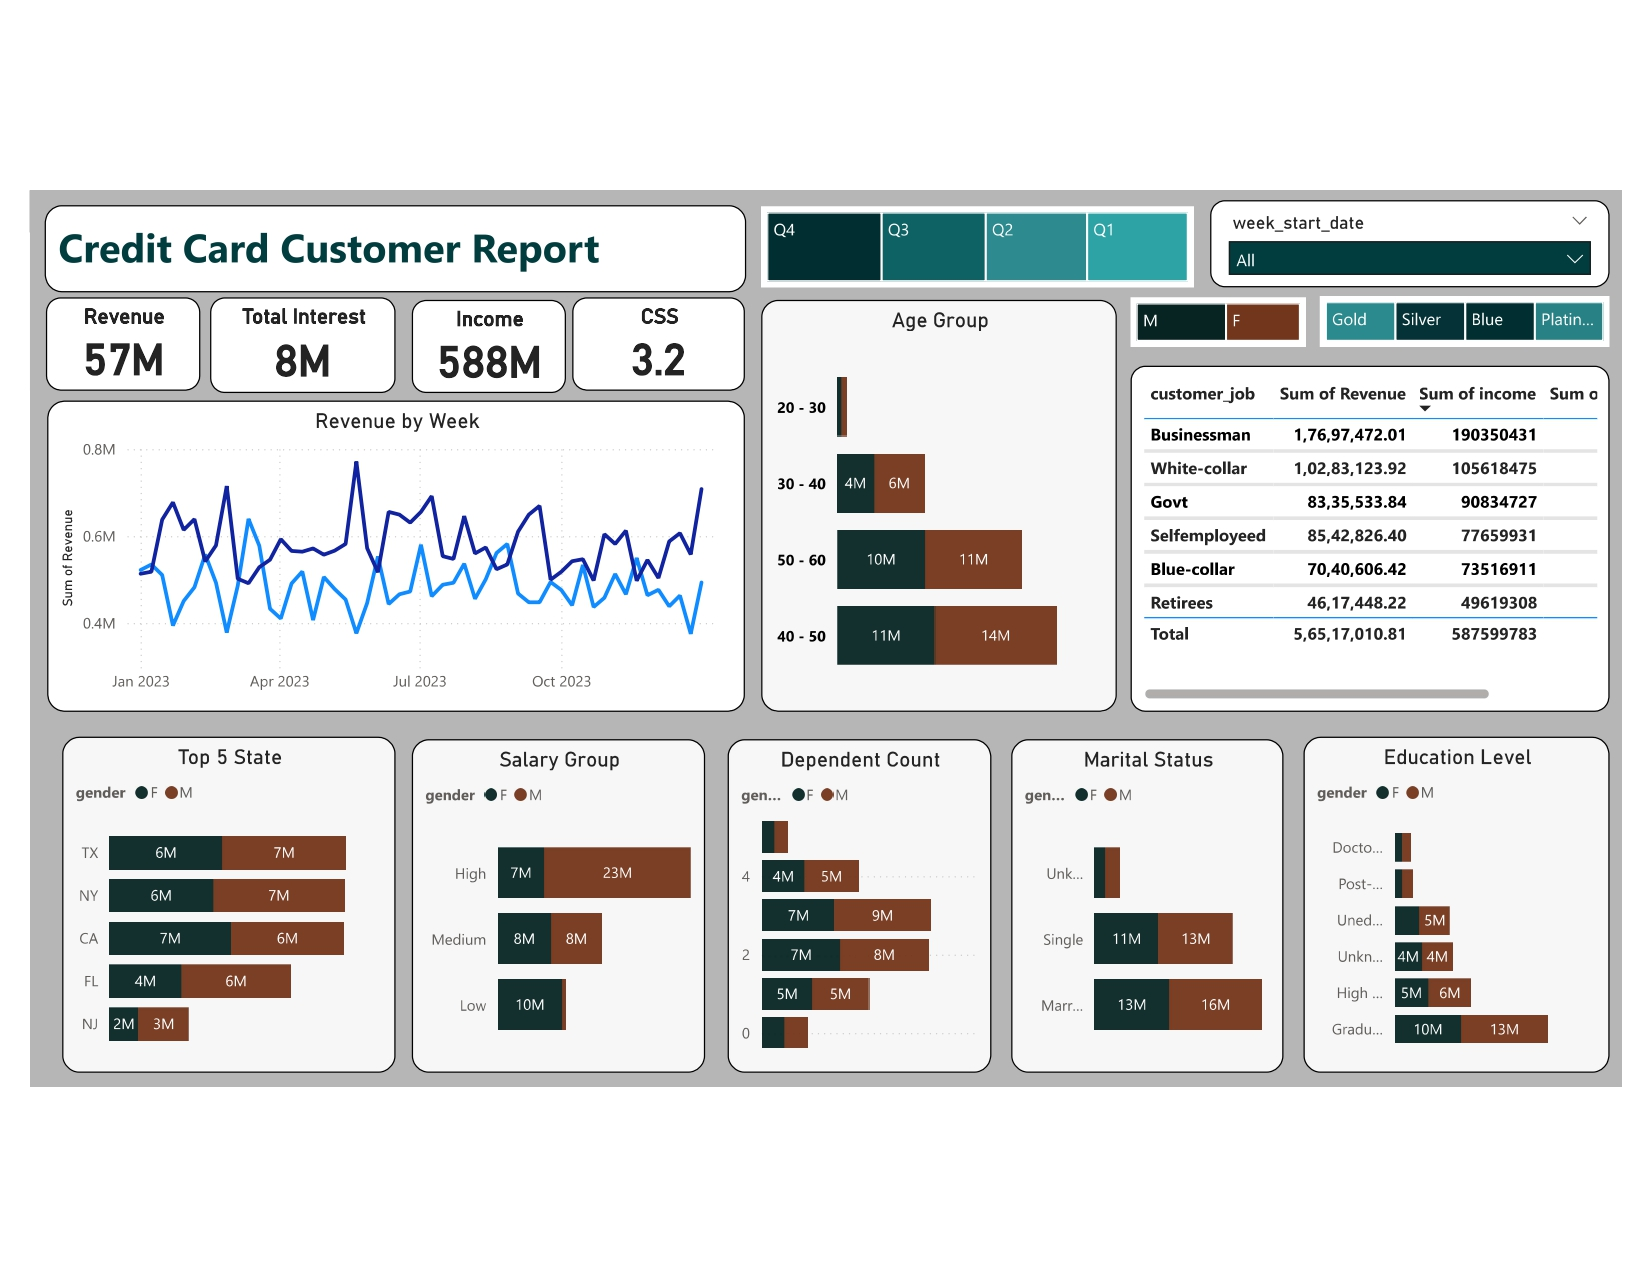

This screenshot's page, from the dashboard's own definition file:
{"tool":"powerbi","page":{"name":"Page 3","canvas":[1280,720],"ordinal":1},"visuals":[{"type":"textbox","box":[12,12,564,70],"z":0},{"type":"tableEx","fields":{"Values":["public cust_detail.customer_job","Sum(public cc_detail.Revenue)","Sum(public cust_detail.income)","Sum(public cc_detail.interest_earned)"]},"box":[885.1,140.6,385,278],"z":1000},{"type":"slicer","fields":{"Values":["public cc_detail.week_start_date"]},"box":[949,8,321.1,70.3],"z":2000},{"type":"treemap","fields":{"Values":["Avg(public cc_detail.client_num)"],"Group":["public cc_detail.card_category","public cust_detail.gender"]},"box":[1036.9,84.7,233.3,41.5],"z":3000},{"type":"card","title":"Revenue","fields":{"Values":["Sum(public cc_detail.Revenue)"]},"box":[12.8,86.3,124.6,75.1],"z":4000},{"type":"card","title":"Income","fields":{"Values":["Sum(public cust_detail.income)"]},"box":[306.8,87.9,124.6,75.1],"z":5000},{"type":"card","title":"Total Interest","fields":{"Values":["Sum(public cc_detail.interest_earned)"]},"box":[145.4,86.3,148.6,76.7],"z":6000},{"type":"card","title":"CSS","fields":{"Values":["Avg(public cust_detail.cust_satisfaction_score)"]},"box":[436.2,86.3,139,75.1],"z":7000},{"type":"lineChart","title":"Revenue by Week","fields":{"Y":["Sum(public cc_detail.Revenue)"],"Series":["public cust_detail.gender"],"Category":["public cc_detail.week_start_date.Variation.Date Hierarchy.Year","public cc_detail.week_start_date.Variation.Date Hierarchy.Quarter","public cc_detail.week_start_date.Variation.Date Hierarchy.Month","public cc_detail.week_start_date.Variation.Date Hierarchy.Day"]},"box":[14.4,169.4,560.8,249.2],"z":8000},{"type":"treemap","fields":{"Values":["Sum(public cc_detail.Revenue)"],"Group":["public cust_detail.gender"]},"box":[885.1,86.3,140.6,39.9],"z":9000},{"type":"barChart","title":"Salary Group","fields":{"Y":["Sum(public cc_detail.Revenue)"],"Category":["public cust_detail.IncomeGroupo"],"Series":["public cust_detail.gender"]},"box":[306.8,441,236.5,268.4],"z":10000},{"type":"barChart","title":"Age Group","fields":{"Y":["Sum(public cc_detail.Revenue)"],"Category":["public cust_detail.AgeGroup"],"Series":["public cust_detail.gender"]},"box":[587.9,87.9,286,330.7],"z":11000},{"type":"barChart","title":"Dependent Count","fields":{"Y":["Sum(public cc_detail.Revenue)"],"Category":["public cust_detail.dependent_count"],"Series":["public cust_detail.gender"]},"box":[560.8,441,212.5,268.4],"z":12000},{"type":"barChart","title":"Education Level","fields":{"Y":["Sum(public cc_detail.Revenue)"],"Category":["public cust_detail.education_level"],"Series":["public cust_detail.gender"]},"box":[1024.1,439.4,246,270],"z":13000},{"type":"barChart","title":"Top 5 State","fields":{"Y":["Sum(public cc_detail.Revenue)"],"Category":["public cust_detail.state_cd"],"Series":["public cust_detail.gender"]},"box":[25.6,439.4,268.4,270],"z":14000},{"type":"barChart","title":"Marital Status","fields":{"Y":["Sum(public cc_detail.Revenue)"],"Category":["public cust_detail.marital_status"],"Series":["public cust_detail.gender"]},"box":[789.2,441,218.9,268.4],"z":15000},{"type":"treemap","fields":{"Group":["public cc_detail.qtr"],"Values":["Avg(public cc_detail.client_num)"]},"box":[587.9,12.8,348.3,65.5],"z":16000}]}

Visuals, with their boxes on the page's 1280x720 design canvas (x1, y1, x2, y2). These are canvas units, not pixel positions in the 1650x1275 screenshot, which may show the page scaled, cropped or inside an application window:
textbox: [x1=12, y1=12, x2=576, y2=82]
tableEx - public cust_detail.customer_job x Sum(public cc_detail.Revenue): [x1=885, y1=141, x2=1270, y2=419]
slicer - public cc_detail.week_start_date: [x1=949, y1=8, x2=1270, y2=78]
treemap - Avg(public cc_detail.client_num) x public cc_detail.card_category: [x1=1037, y1=85, x2=1270, y2=126]
"Revenue" card: [x1=13, y1=86, x2=137, y2=161]
"Income" card: [x1=307, y1=88, x2=431, y2=163]
"Total Interest" card: [x1=145, y1=86, x2=294, y2=163]
"CSS" card: [x1=436, y1=86, x2=575, y2=161]
"Revenue by Week" lineChart: [x1=14, y1=169, x2=575, y2=419]
treemap - Sum(public cc_detail.Revenue) x public cust_detail.gender: [x1=885, y1=86, x2=1026, y2=126]
"Salary Group" barChart: [x1=307, y1=441, x2=543, y2=709]
"Age Group" barChart: [x1=588, y1=88, x2=874, y2=419]
"Dependent Count" barChart: [x1=561, y1=441, x2=773, y2=709]
"Education Level" barChart: [x1=1024, y1=439, x2=1270, y2=709]
"Top 5 State" barChart: [x1=26, y1=439, x2=294, y2=709]
"Marital Status" barChart: [x1=789, y1=441, x2=1008, y2=709]
treemap - public cc_detail.qtr x Avg(public cc_detail.client_num): [x1=588, y1=13, x2=936, y2=78]
